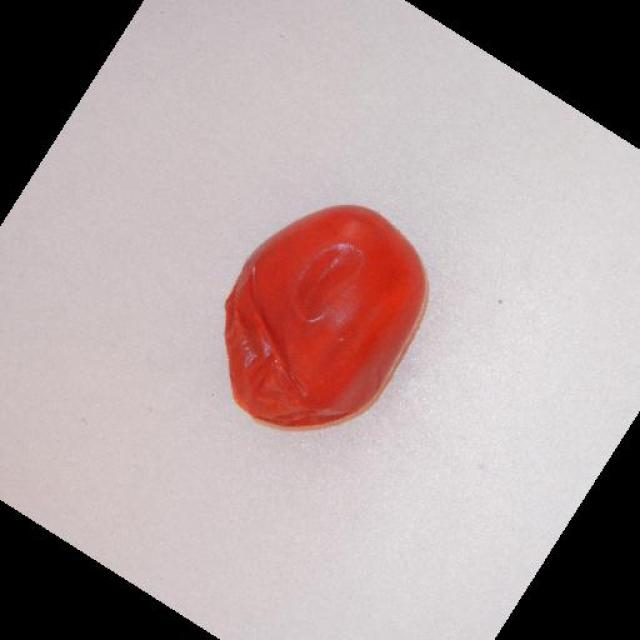Stale_tomato: (233, 210, 430, 417)
